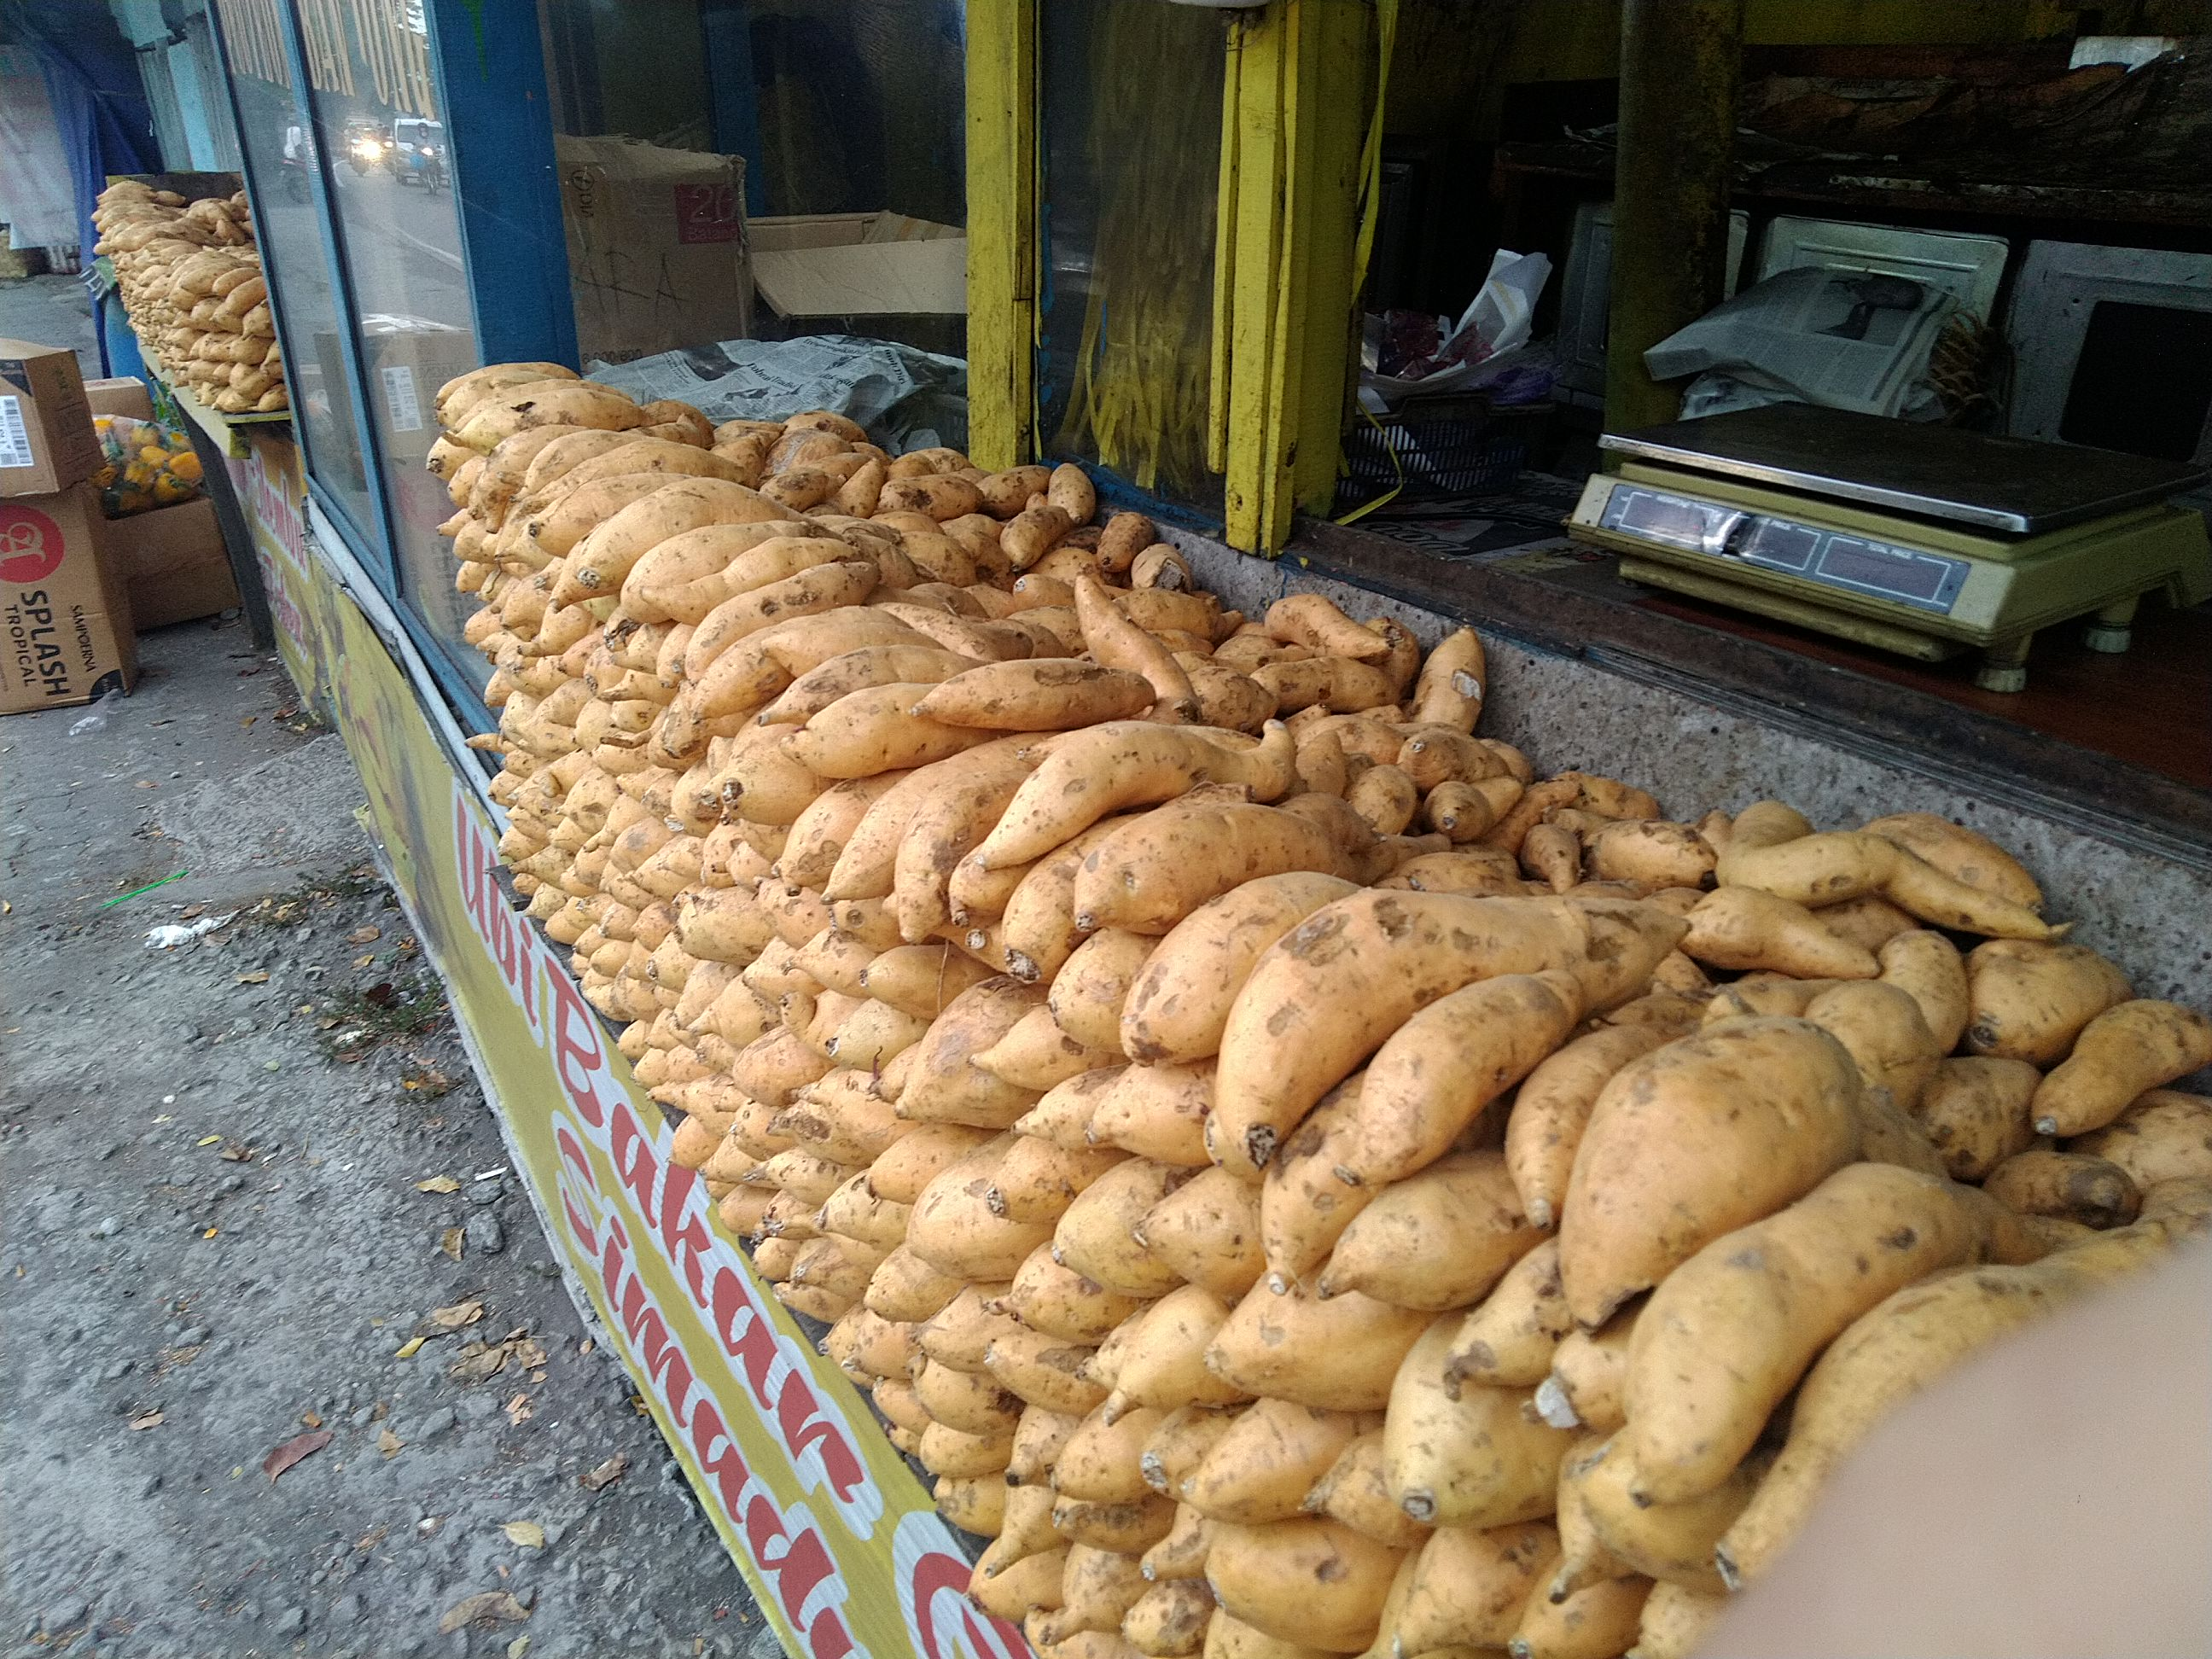ubi cilembu: (813, 629, 2212, 1626), (435, 364, 1233, 1019), (1195, 896, 1703, 1183), (1557, 1009, 1893, 1338), (91, 169, 289, 411), (1639, 877, 1902, 985), (2027, 993, 2212, 1145), (1059, 558, 1216, 709), (1261, 582, 1397, 667), (1409, 615, 1494, 742), (1571, 812, 1719, 878), (1420, 763, 1529, 843), (1000, 493, 1071, 573)
